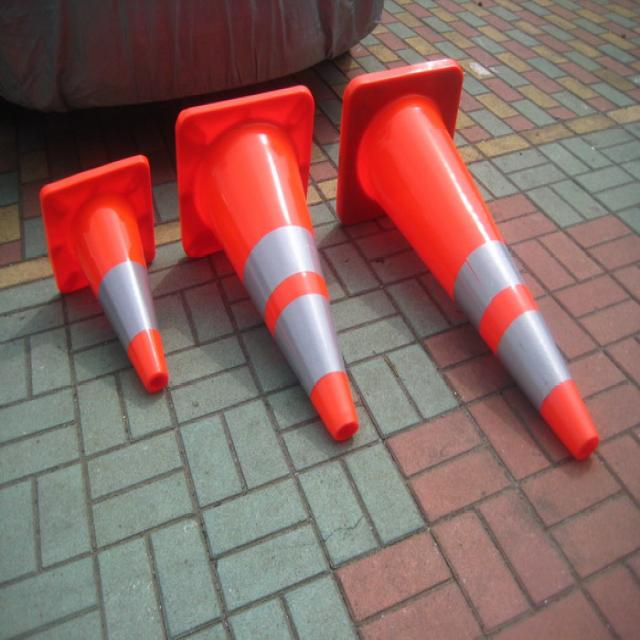reflective_cone: (336, 57, 599, 460), (170, 83, 359, 446), (39, 151, 172, 390)
